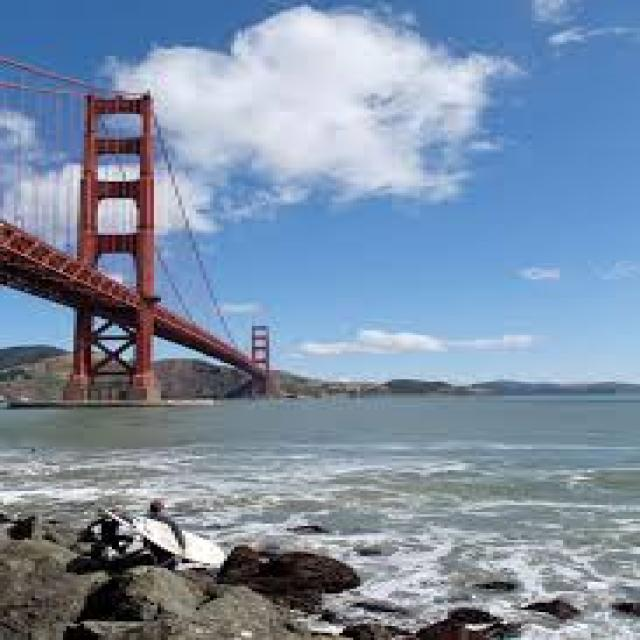Bridges: (9, 62, 353, 456)
